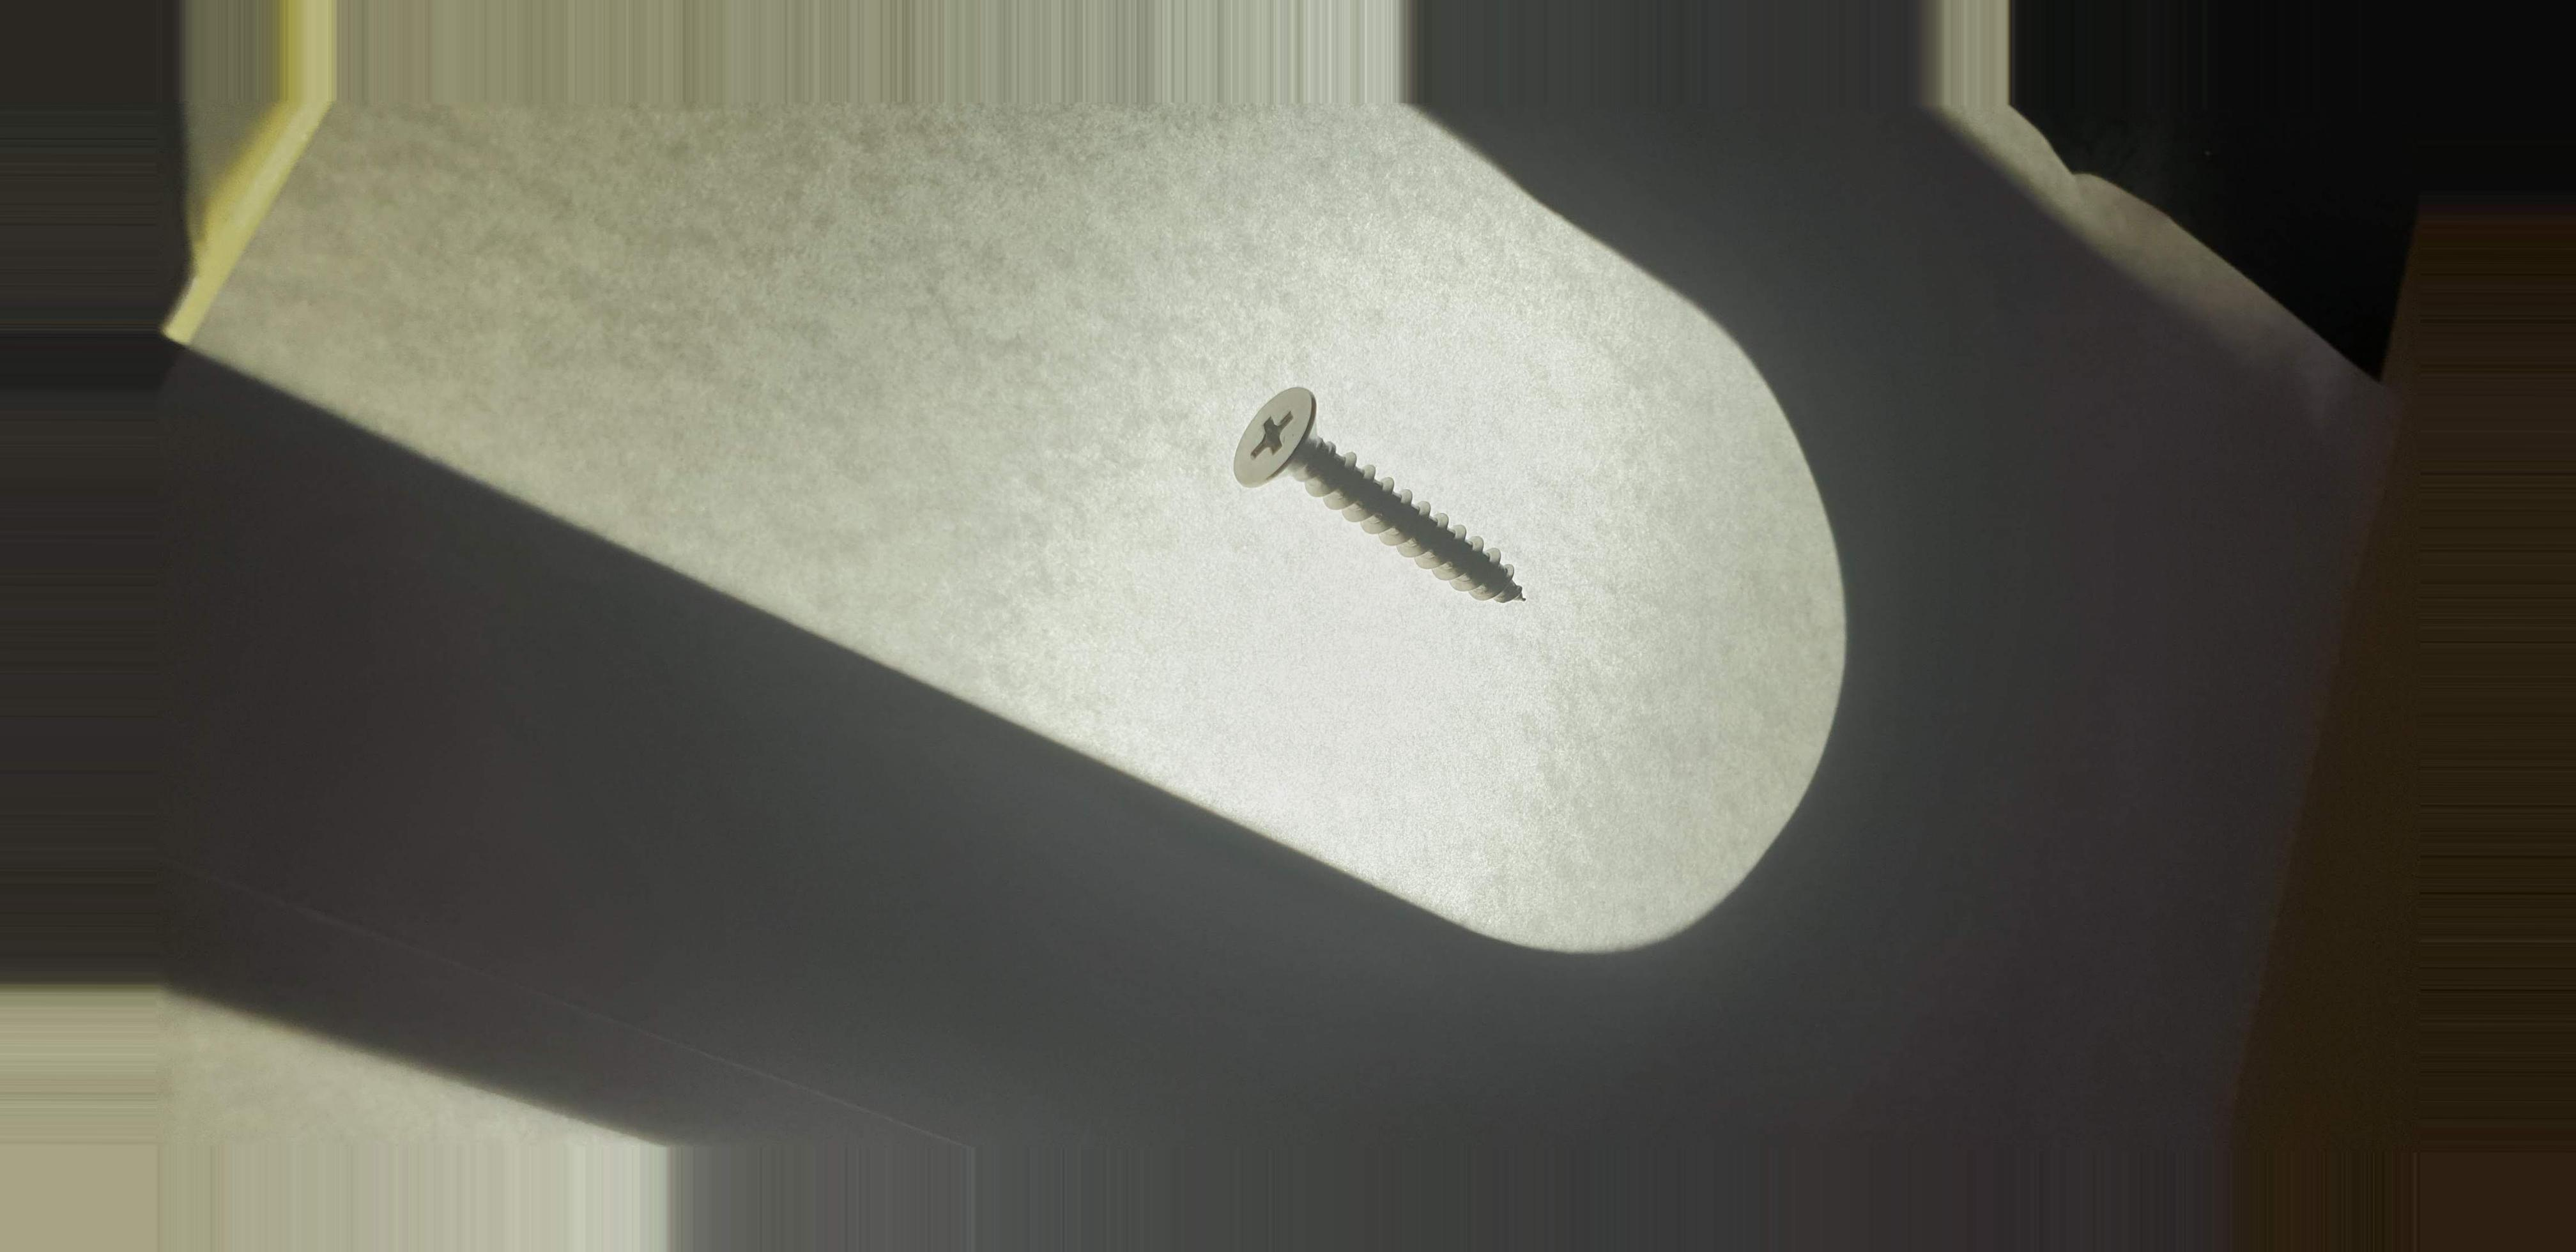S004: (1212, 352, 1571, 647)
